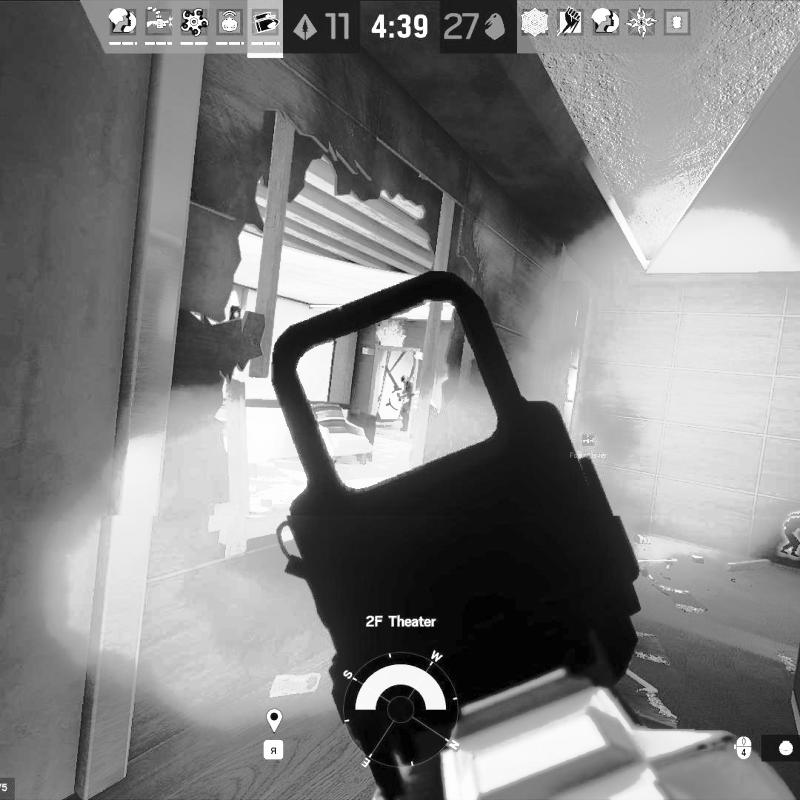Character: (395, 374, 415, 433)
Friend_label: (569, 432, 609, 460)
Head: (400, 374, 409, 384)
